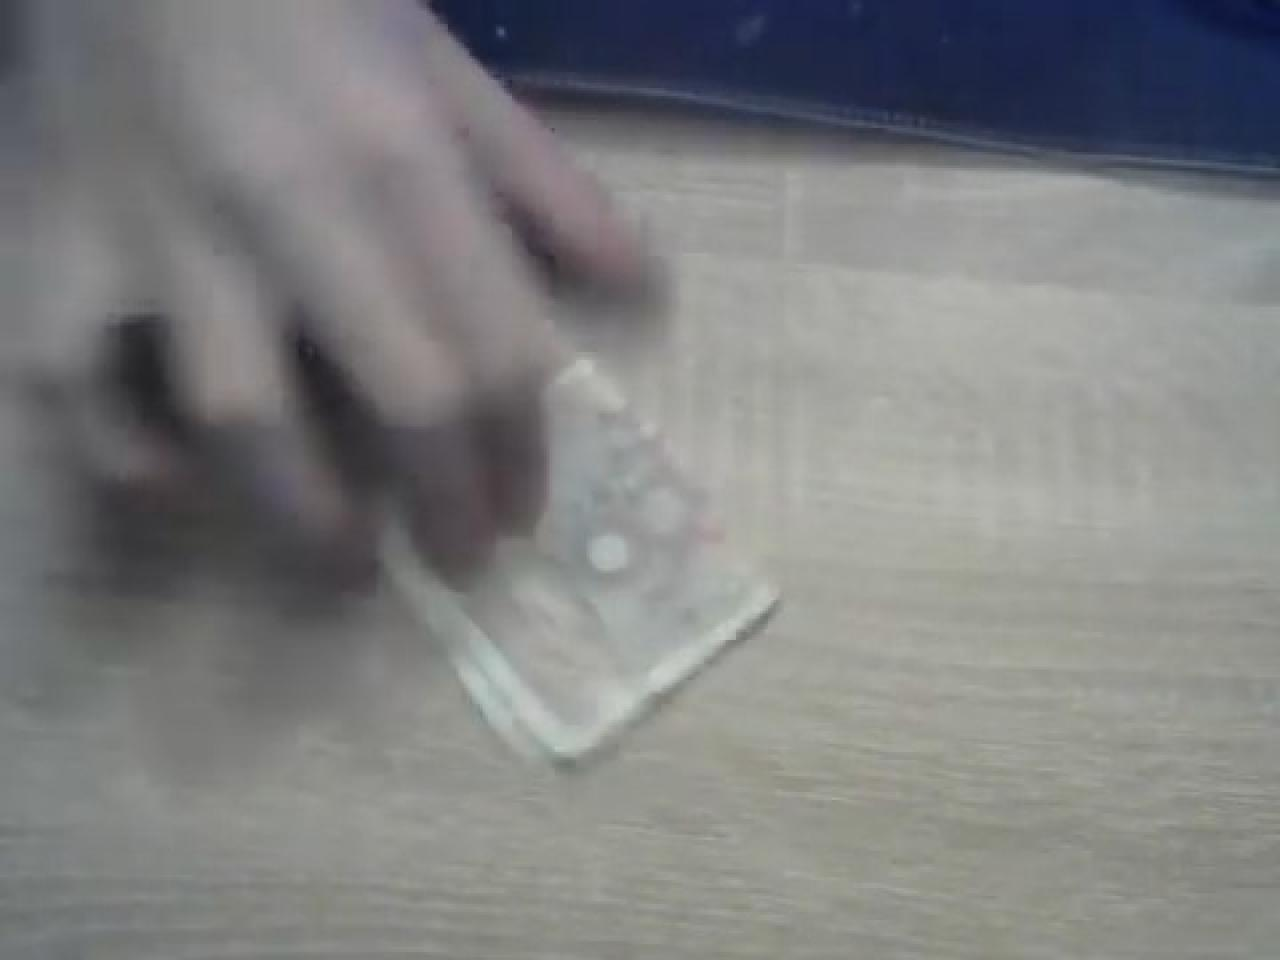10leva: (371, 341, 784, 770)
